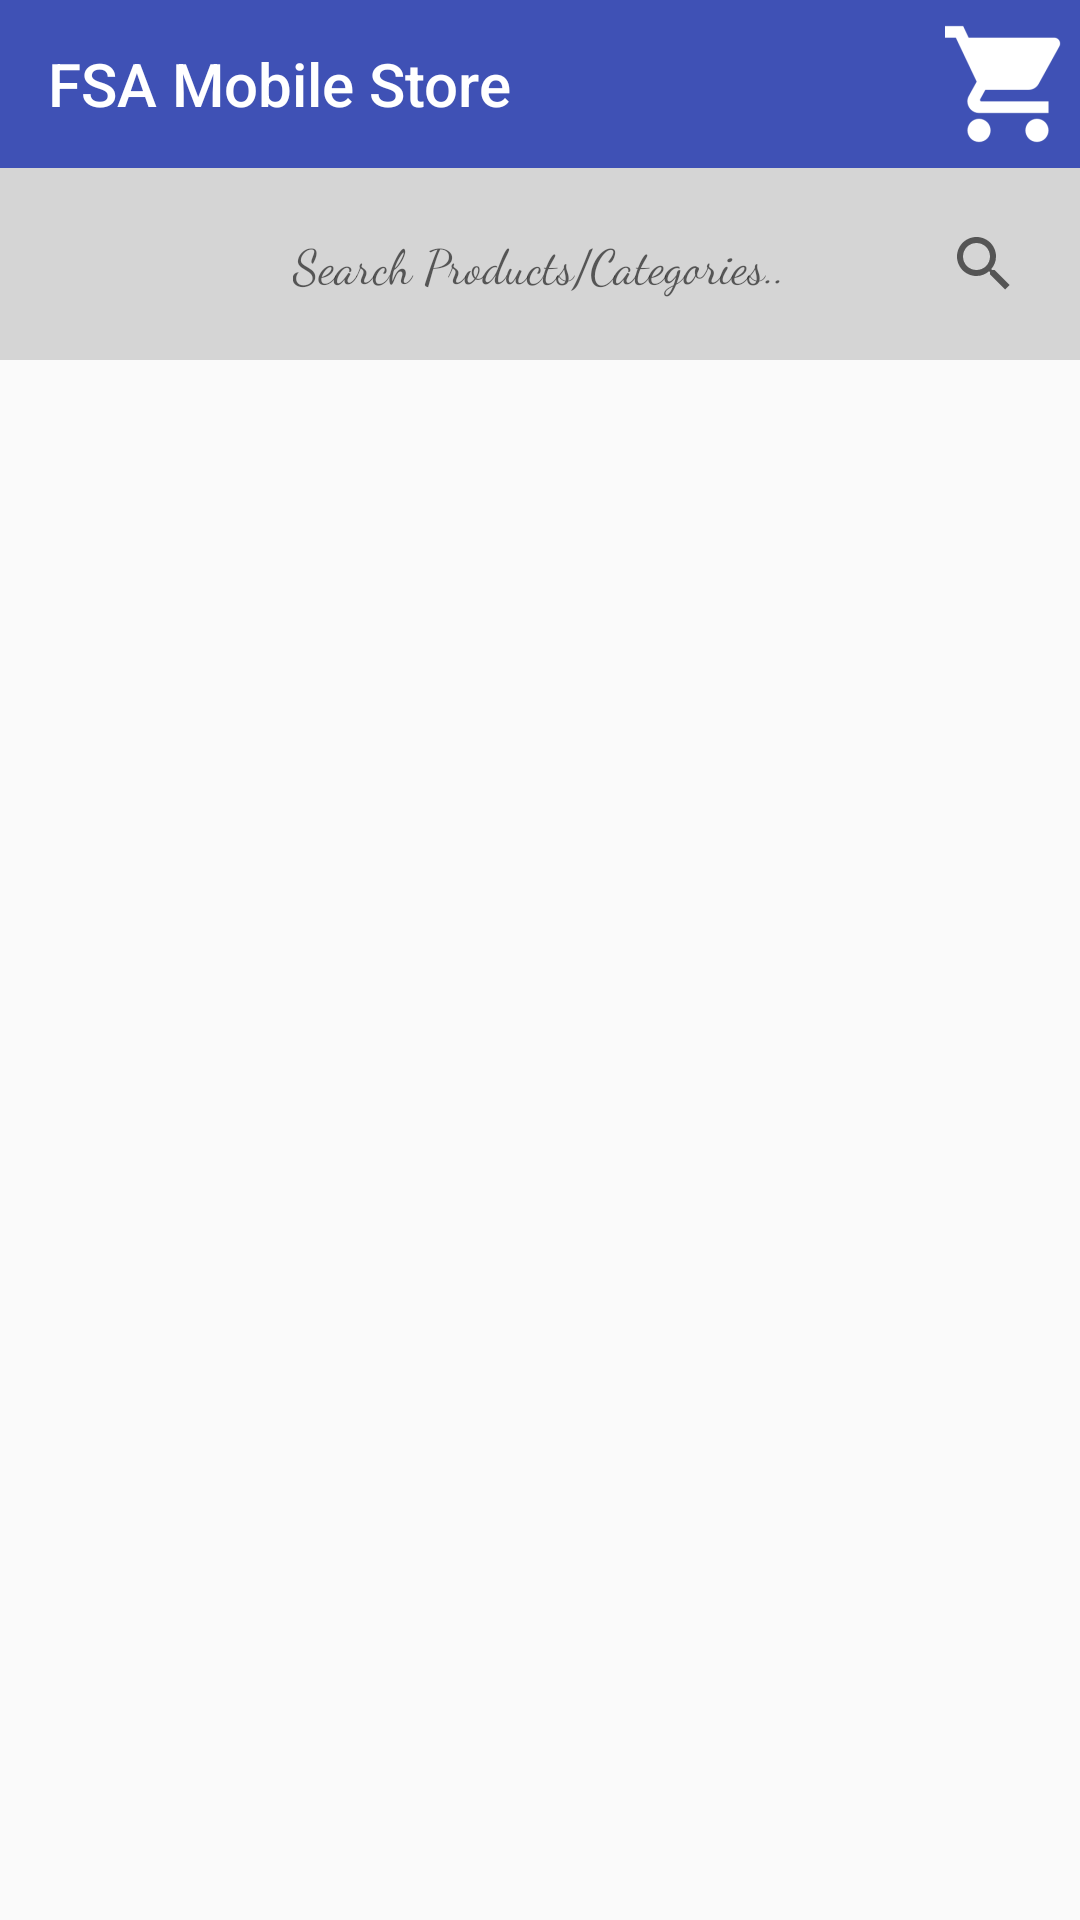

Icon bounding boxes for this 1080px x 1920px phone screenshot, format (x1, y1, x2, y2):
cart: (945, 26, 1060, 142)
